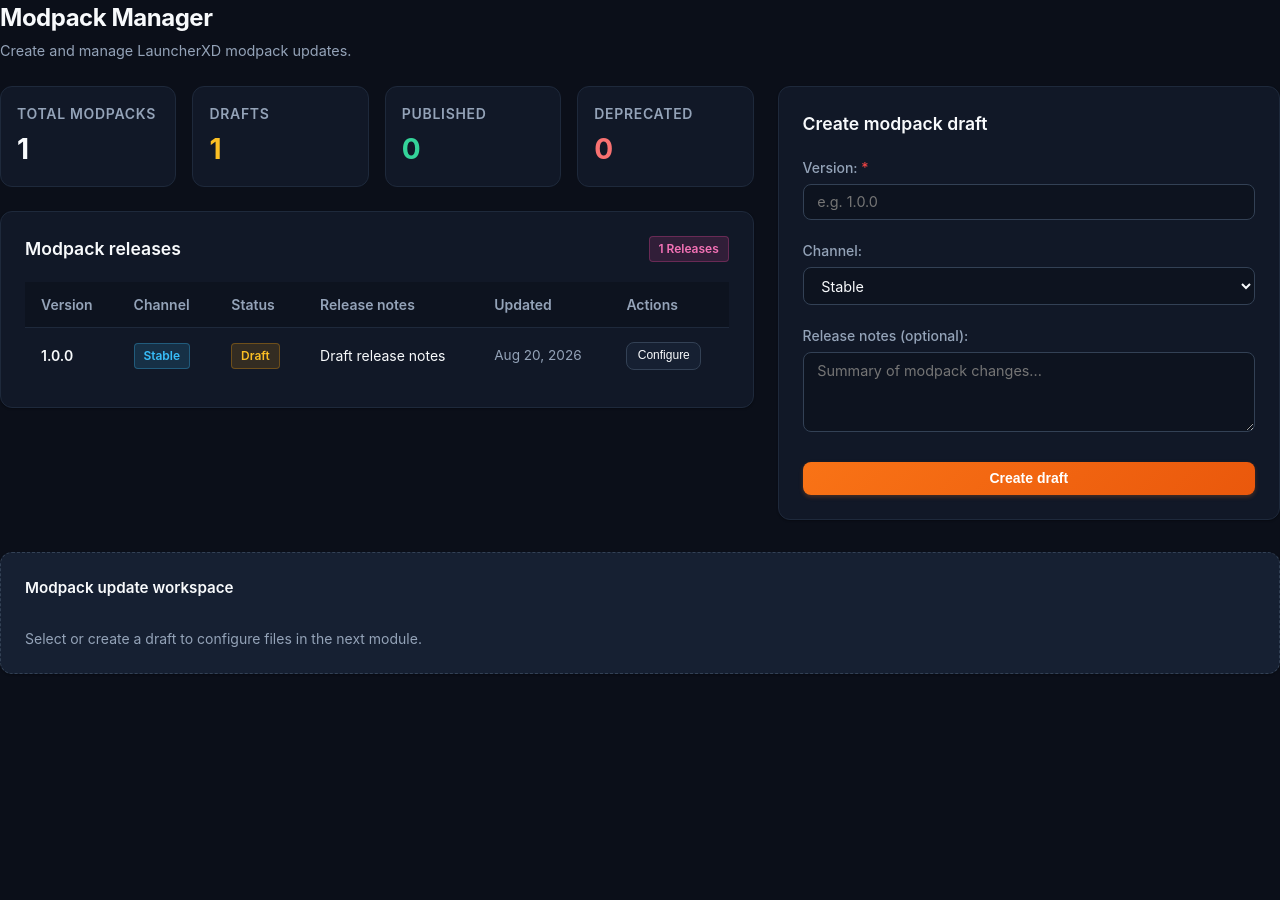
Modpack Safe Purge Everywhere UI Tests (Phase 7F) › 5. Pending deletion displays Deleting everywhere..., disables controls, and avoids double submission
Click the button with test id "configure-modpack-modpack-draft-1" at (664, 356), box [626,342,701,370]
(page scrolled)
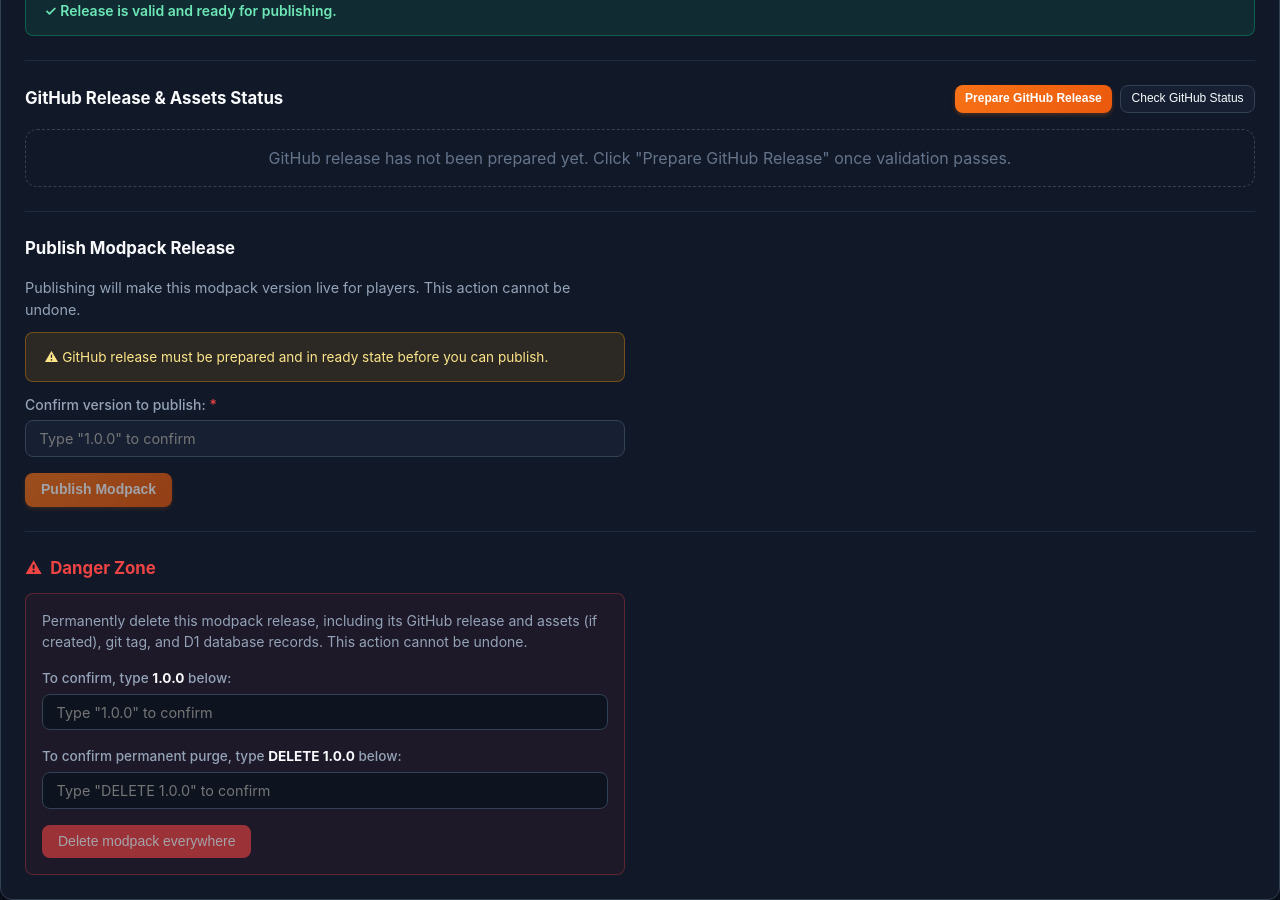
Type "1.0.0" into the field with test id "confirm-delete-version-input" at (325, 712), box [42,694,608,730]
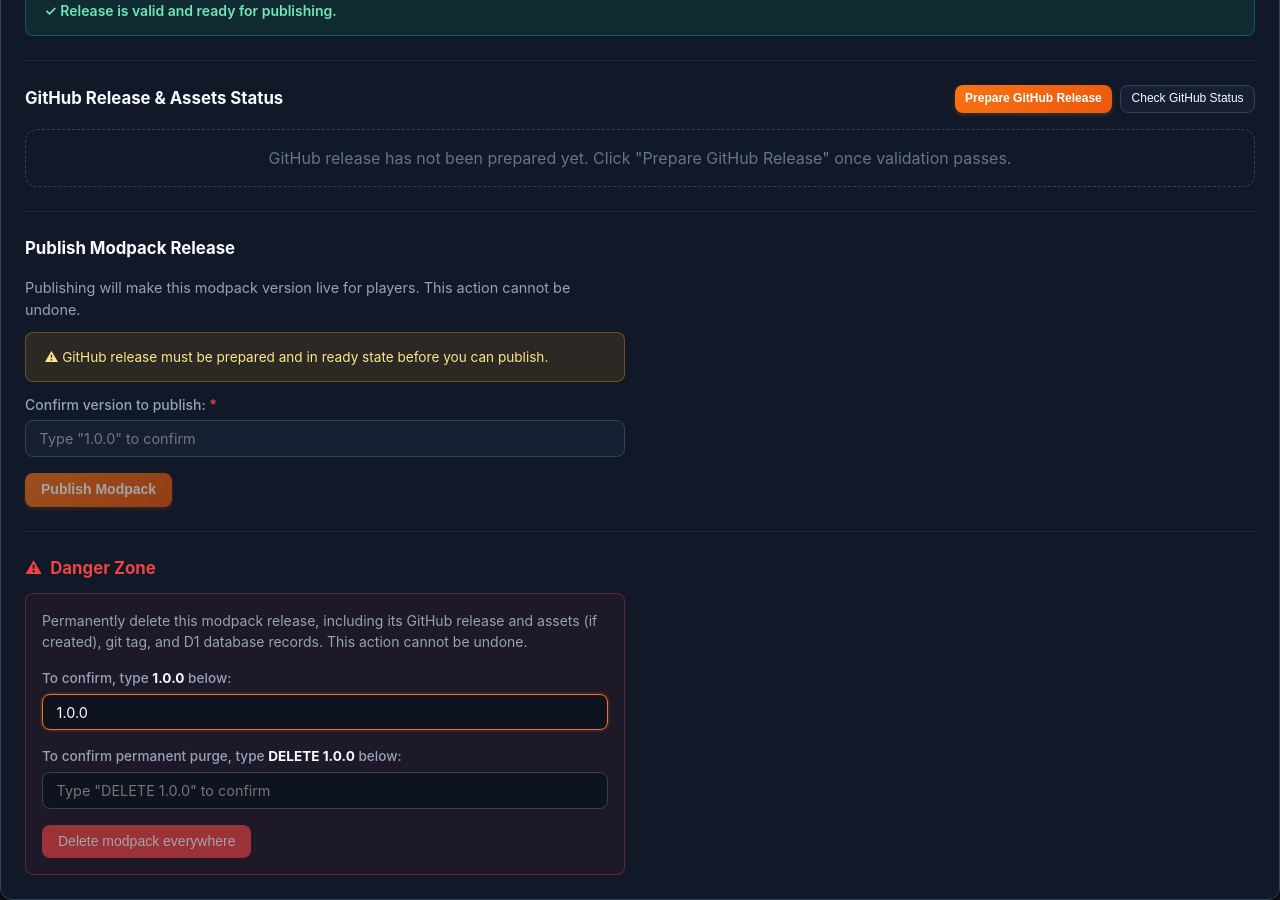
Type "DELETE 1.0.0" into the field with test id "confirm-delete-phrase-input" at (325, 791), box [42,772,608,809]
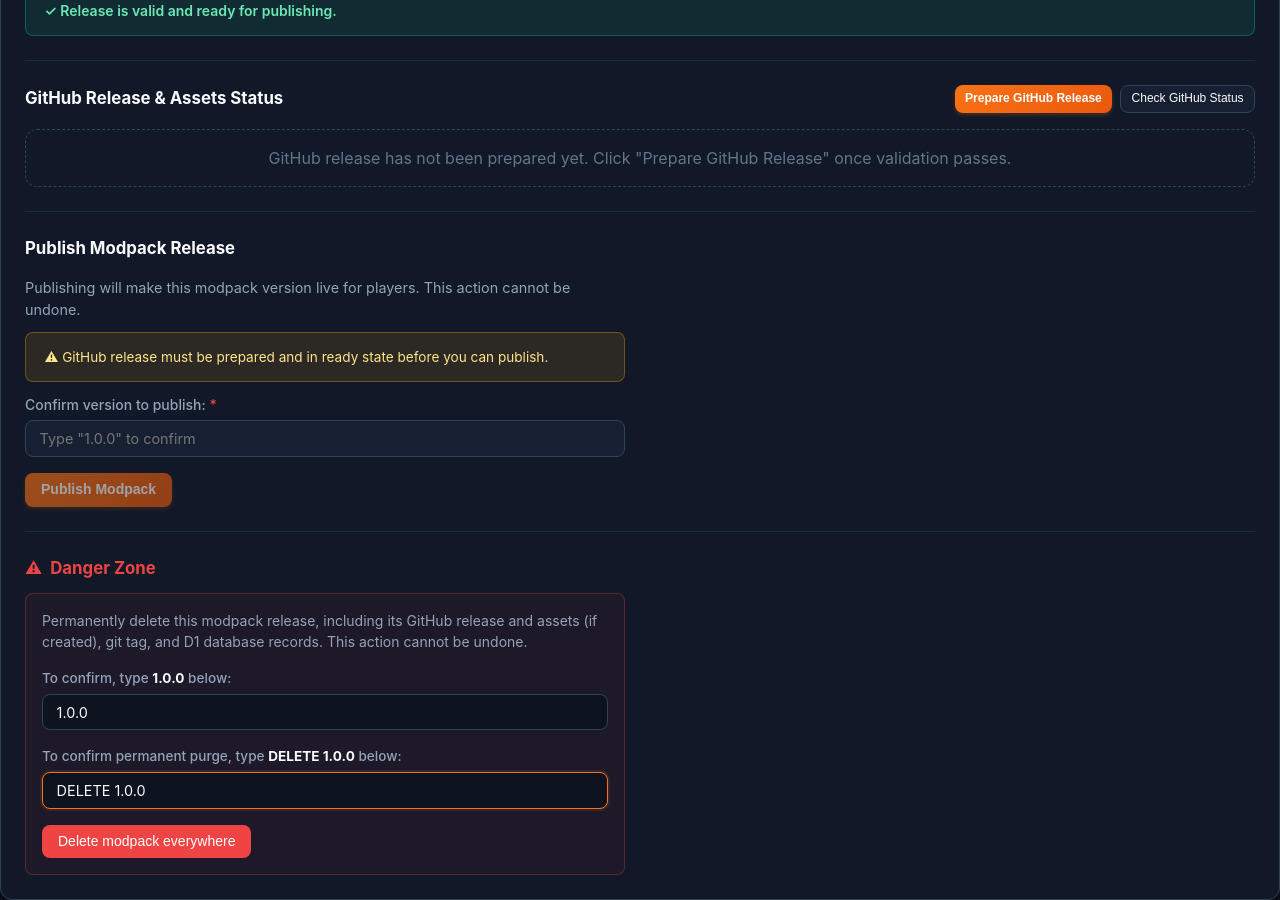
Check: the button with test id "delete-draft-everywhere-btn" is enabled
Click the button with test id "delete-draft-everywhere-btn" at (147, 842), box [42,825,251,858]
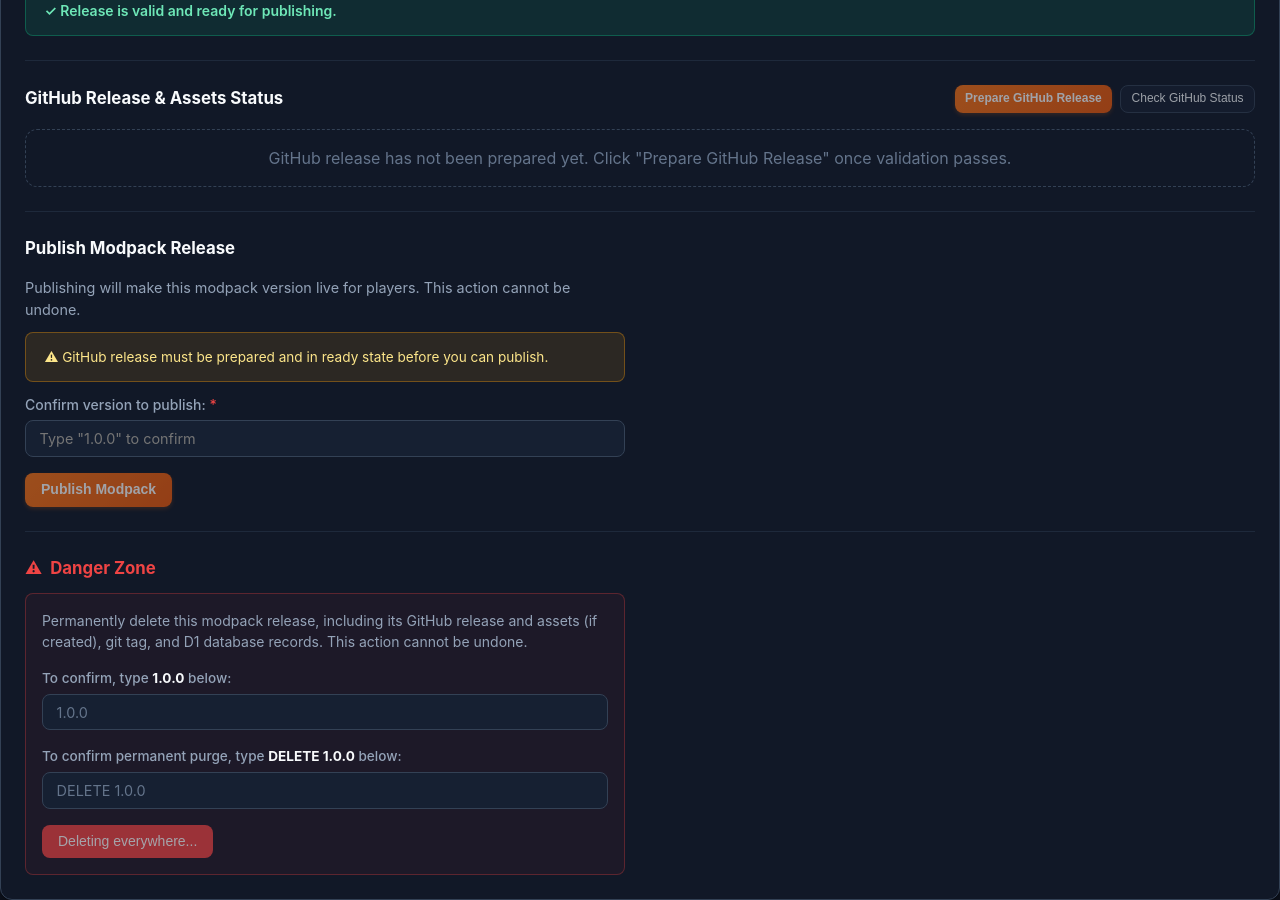
Check: the button with test id "delete-draft-everywhere-btn" reads "Deleting everywhere..."
Check: the button with test id "delete-draft-everywhere-btn" is disabled
Note: Fast duplicate click should not trigger second API call
Click the button with test id "delete-draft-everywhere-btn" at (128, 842), box [42,825,213,858]
(page scrolled)
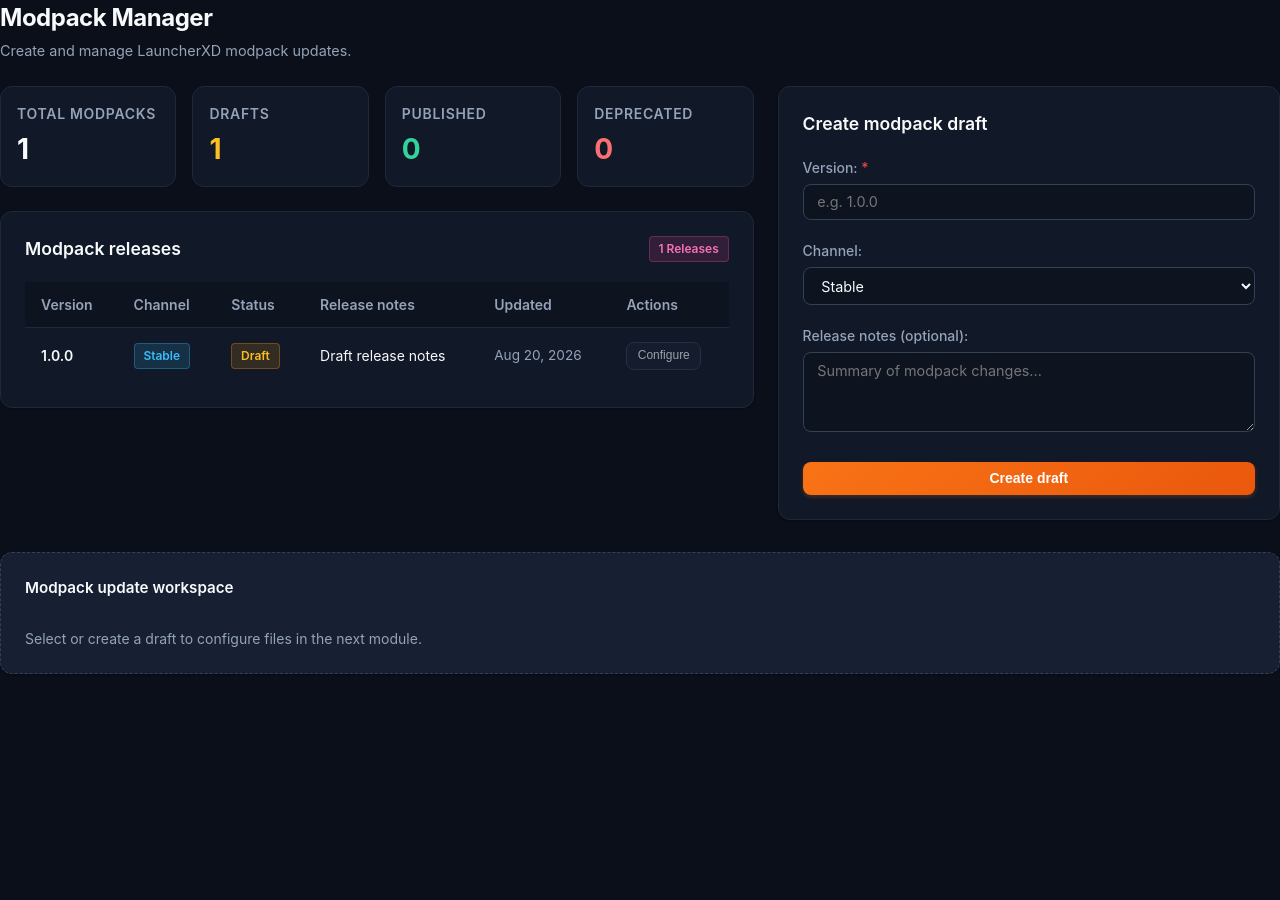
Check: the element with test id "modpack-workspace-placeholder" is shown, box [0,552,1279,674]
